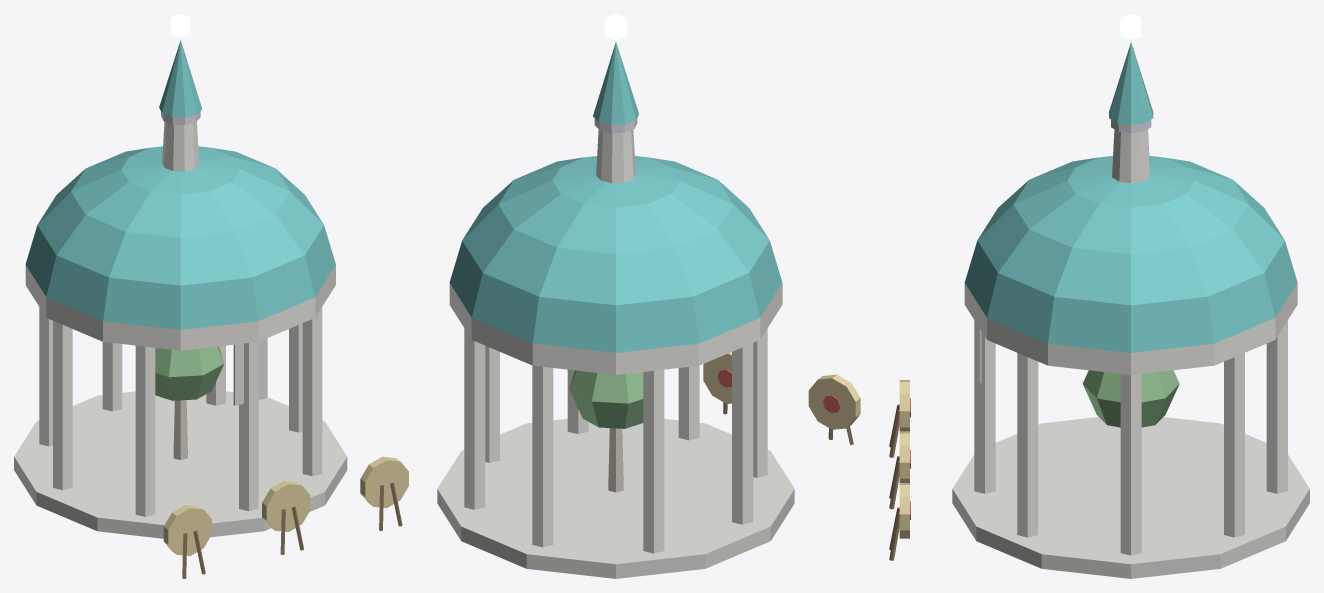
3 renders of one model, left to right at view 1: azimuth 30°, elevation 25°; view 2: azimuth 150°, elevation 25°; view 3: azimuth 270°, elevation 25°, orthographic. The views are drawn at different scales.
Visible parts, largest first — view 1: body; view 2: body; view 3: body.
Part boxes in pixels (bbox=[...]): body: bbox=[14, 14, 408, 578]; body: bbox=[437, 14, 860, 578]; body: bbox=[889, 14, 1309, 578].
Bounding box in the file's own units: 8.8 × 13.31 × 10.36.
